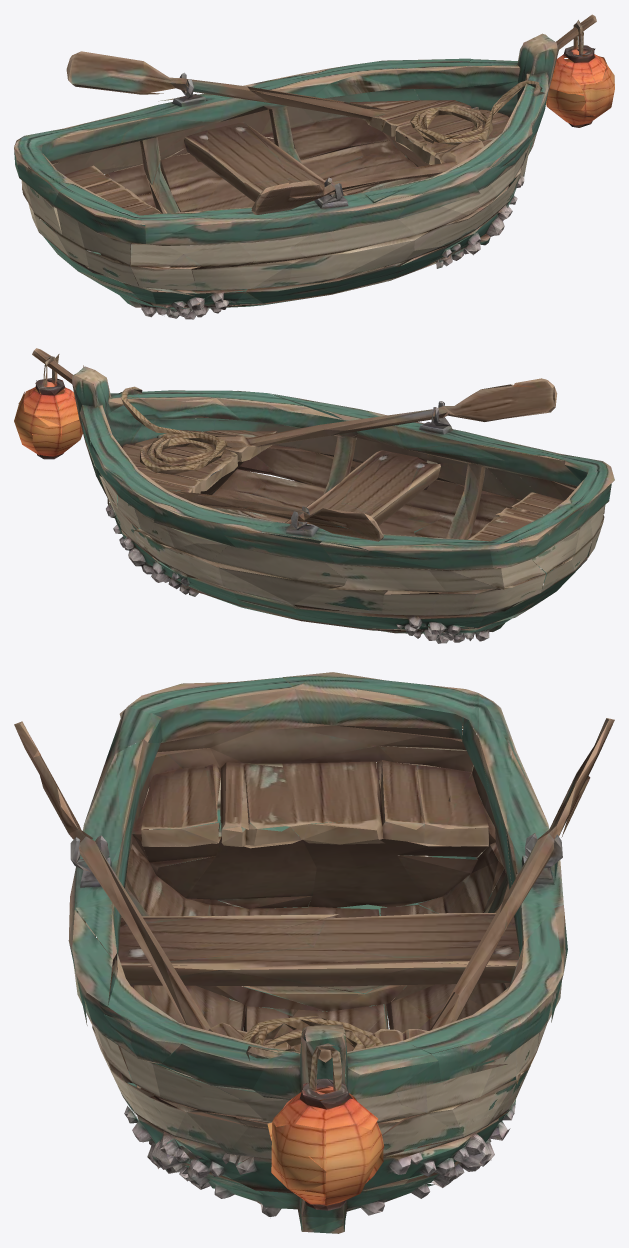
File: east_skiff.glb
3 renders of one model, top to bottom at view 1: azimuth 30°, elevation 25°; view 2: azimuth 150°, elevation 25°; view 3: azimuth 270°, elevation 25°, orthographic. The views are drawn at different scales.
Visible parts, largest first — view 1: Mesh_0; view 2: Mesh_0; view 3: Mesh_0.
Boxes of the visible parts, <box> form: Mesh_0: <box>14,14,614,319</box>; Mesh_0: <box>14,348,614,643</box>; Mesh_0: <box>14,672,614,1233</box>.
Bounding box in the file's own units: 5 × 1.68 × 2.9.
Materials: 1 (1 with a texture image).
